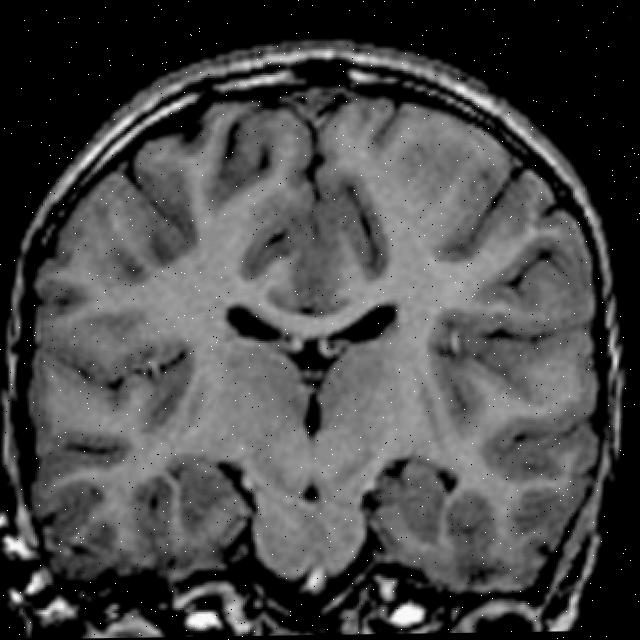NoTumor: (0, 30, 633, 600)
